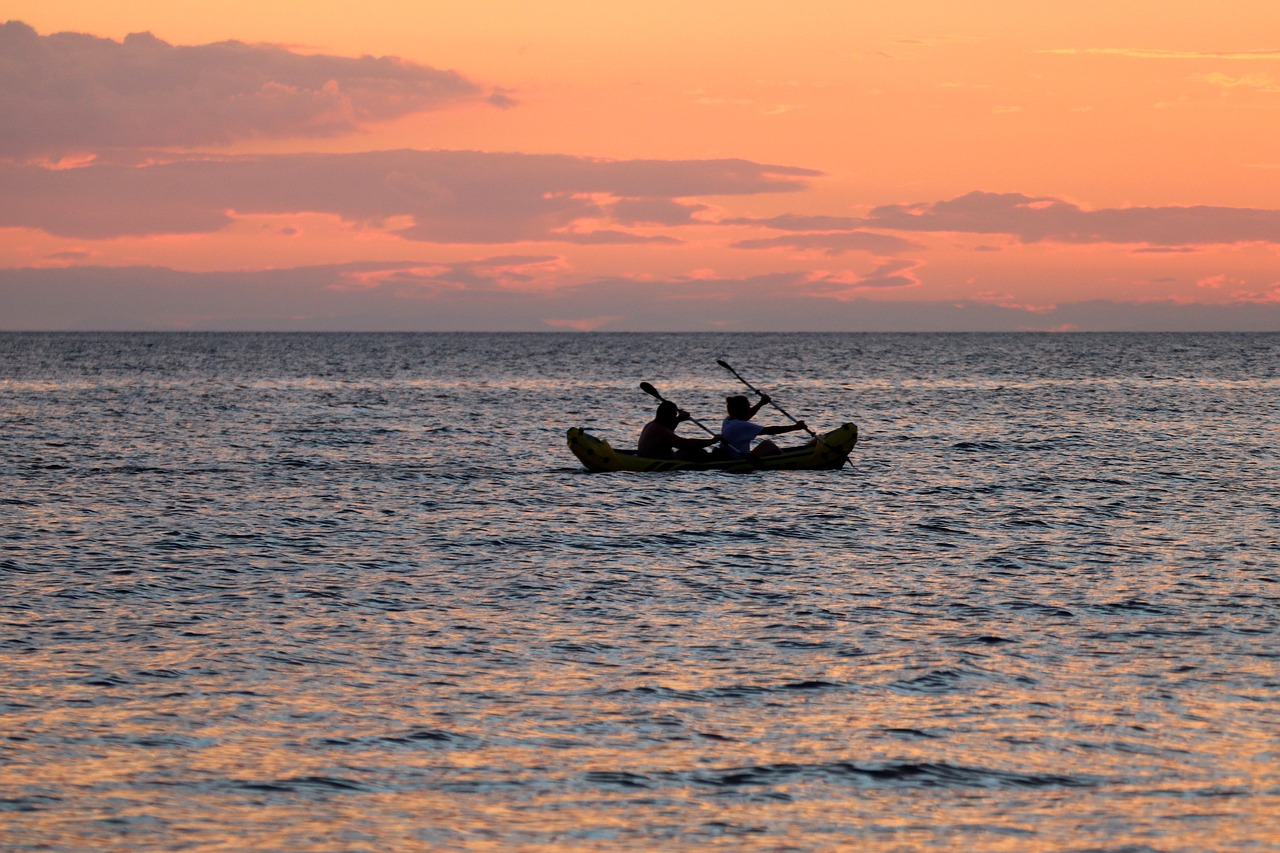kayak: (563, 420, 877, 477)
